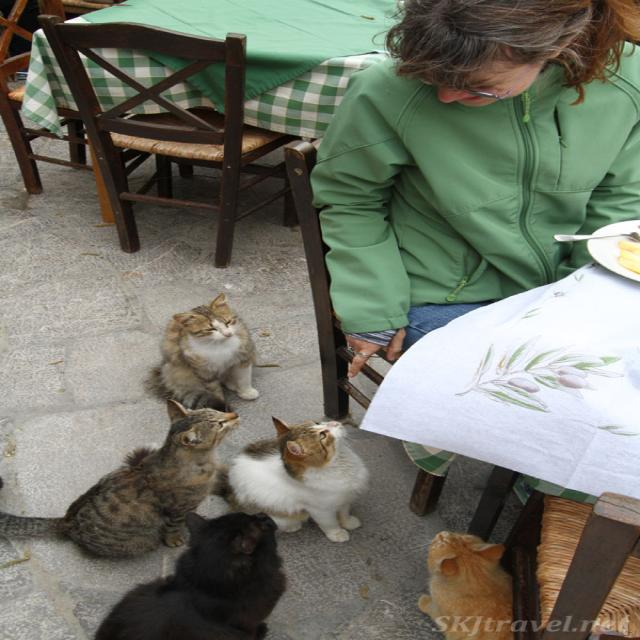cat: (0, 400, 240, 557), (96, 512, 285, 639), (229, 418, 369, 542), (158, 294, 259, 411), (420, 531, 514, 640)
